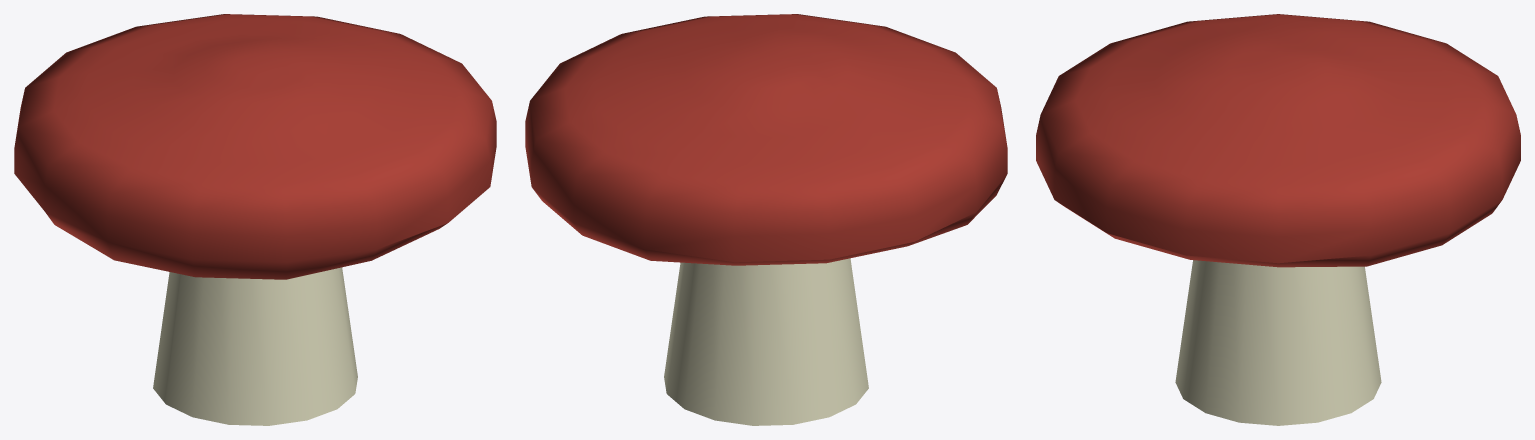
File: Hongo1.fbx
3 views of the same model, side by side, from view 1: azimuth 30°, elevation 25°; view 2: azimuth 150°, elevation 25°; view 3: azimuth 270°, elevation 25° (orthographic).
Visible parts, largest first — view 1: OBJ_Mushroom; view 2: OBJ_Mushroom; view 3: OBJ_Mushroom.
Part boxes in pixels (x1=…): OBJ_Mushroom: x1=14, y1=14, x2=496, y2=425; OBJ_Mushroom: x1=525, y1=14, x2=1007, y2=425; OBJ_Mushroom: x1=1036, y1=14, x2=1520, y2=425.
Size of the model in its own units: 2.64 by 1.9 by 2.64.
